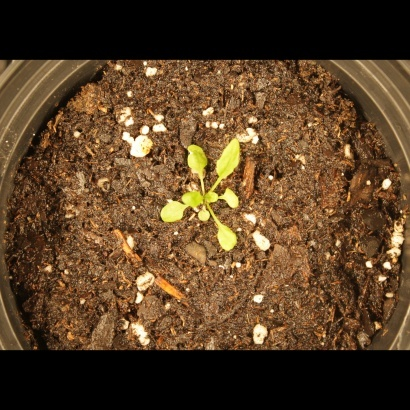leaf: (182, 136, 212, 186), (214, 137, 244, 183), (213, 216, 242, 258), (155, 198, 187, 228), (181, 186, 204, 209), (193, 206, 216, 229), (223, 186, 246, 209), (203, 187, 226, 210)
